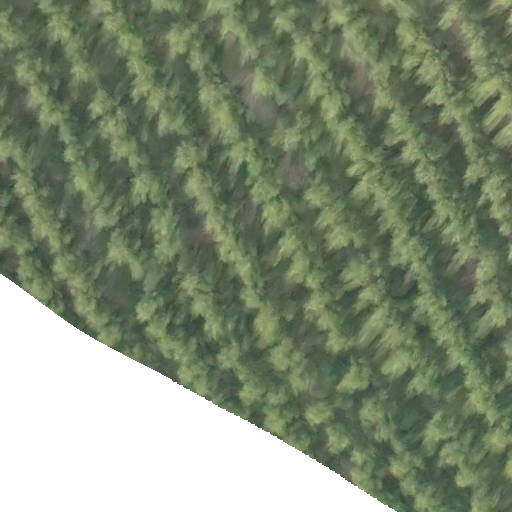eucalipto: (274, 108, 322, 160)
